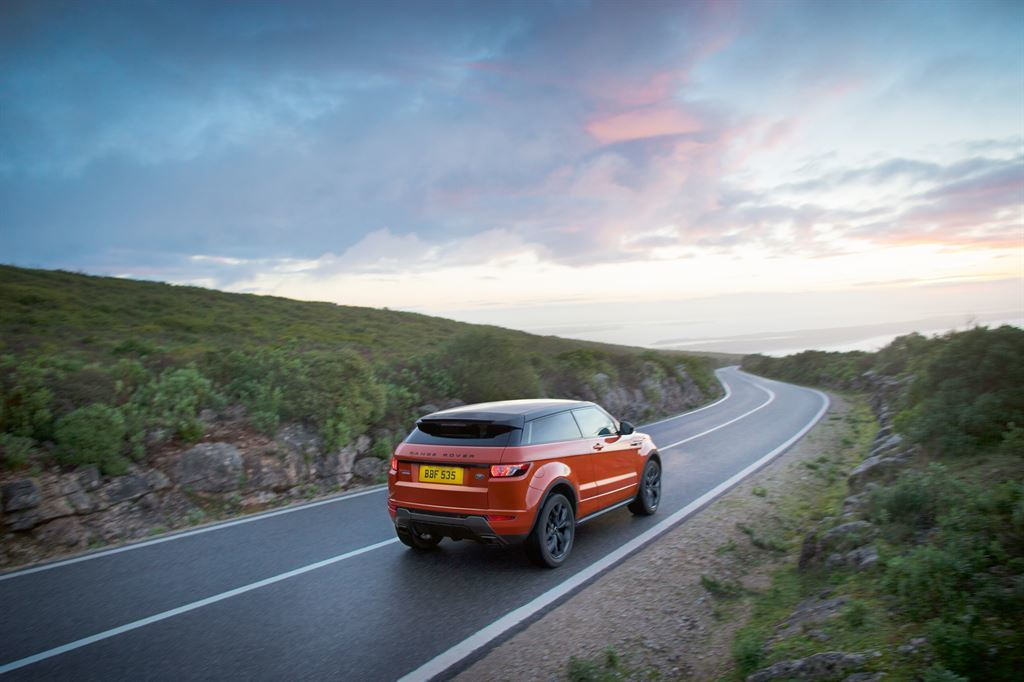Car: (385, 399, 663, 569)
